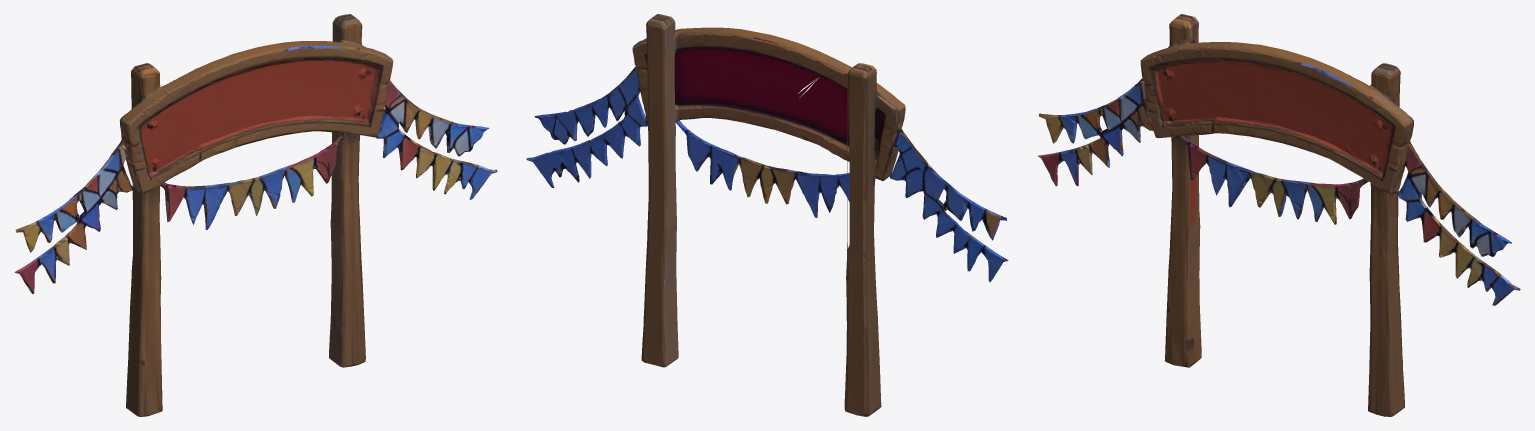
The model's file is arch.glb.
3 views of the same model, side by side, from view 1: azimuth 30°, elevation 25°; view 2: azimuth 150°, elevation 25°; view 3: azimuth 330°, elevation 25° (orthographic).
Parts seen in each view (by area): view 1: geometry_0; view 2: geometry_0; view 3: geometry_0.
Part boxes in pixels (x1,y1,x2,y2): geometry_0: (15, 14, 497, 416); geometry_0: (526, 14, 1008, 416); geometry_0: (1037, 14, 1520, 416).
Bounding box in the file's own units: 4.4 × 2.99 × 0.3352.
Materials: 1 (1 with a texture image).
